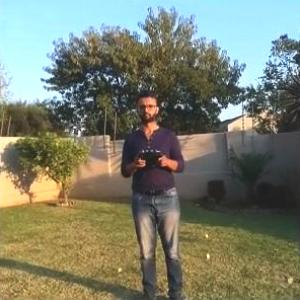follow: (116, 86, 192, 299)
